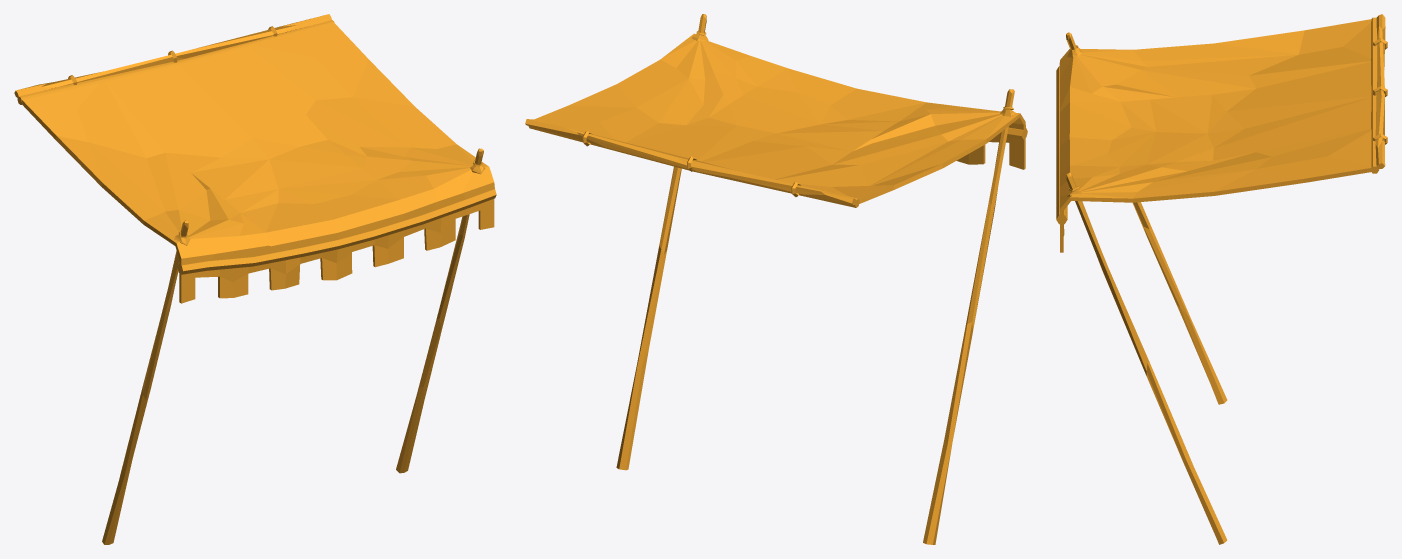
Rendered from SM_Tent_Porch_Narrow_Striped_Fantasy.fbx.
3 renders of one model, left to right at view 1: azimuth 30°, elevation 25°; view 2: azimuth 150°, elevation 25°; view 3: azimuth 270°, elevation 25°, orthographic. The views are drawn at different scales.
Parts seen in each view (by area): view 1: tent-porch-narrow-striped-fantasy; view 2: tent-porch-narrow-striped-fantasy; view 3: tent-porch-narrow-striped-fantasy.
Boxes of the visible parts, <box> form: tent-porch-narrow-striped-fantasy: <box>14,14,496,544</box>; tent-porch-narrow-striped-fantasy: <box>525,14,1027,544</box>; tent-porch-narrow-striped-fantasy: <box>1056,14,1387,544</box>.
Size of the model in its own units: 2.36 by 2.86 by 2.22.
